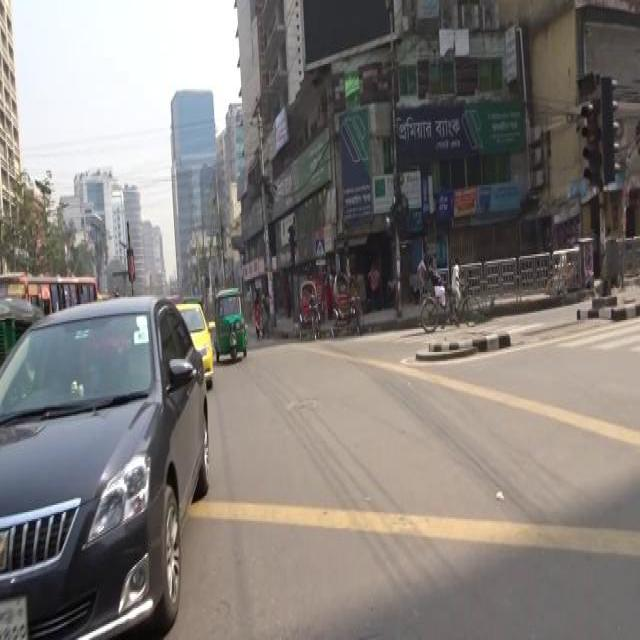13: (416, 257, 482, 333), (332, 272, 362, 336), (297, 277, 321, 338)
16: (174, 300, 214, 383)
17: (0, 297, 43, 364), (212, 286, 248, 361)
5: (0, 292, 210, 636)
Truck: (0, 273, 98, 317)
